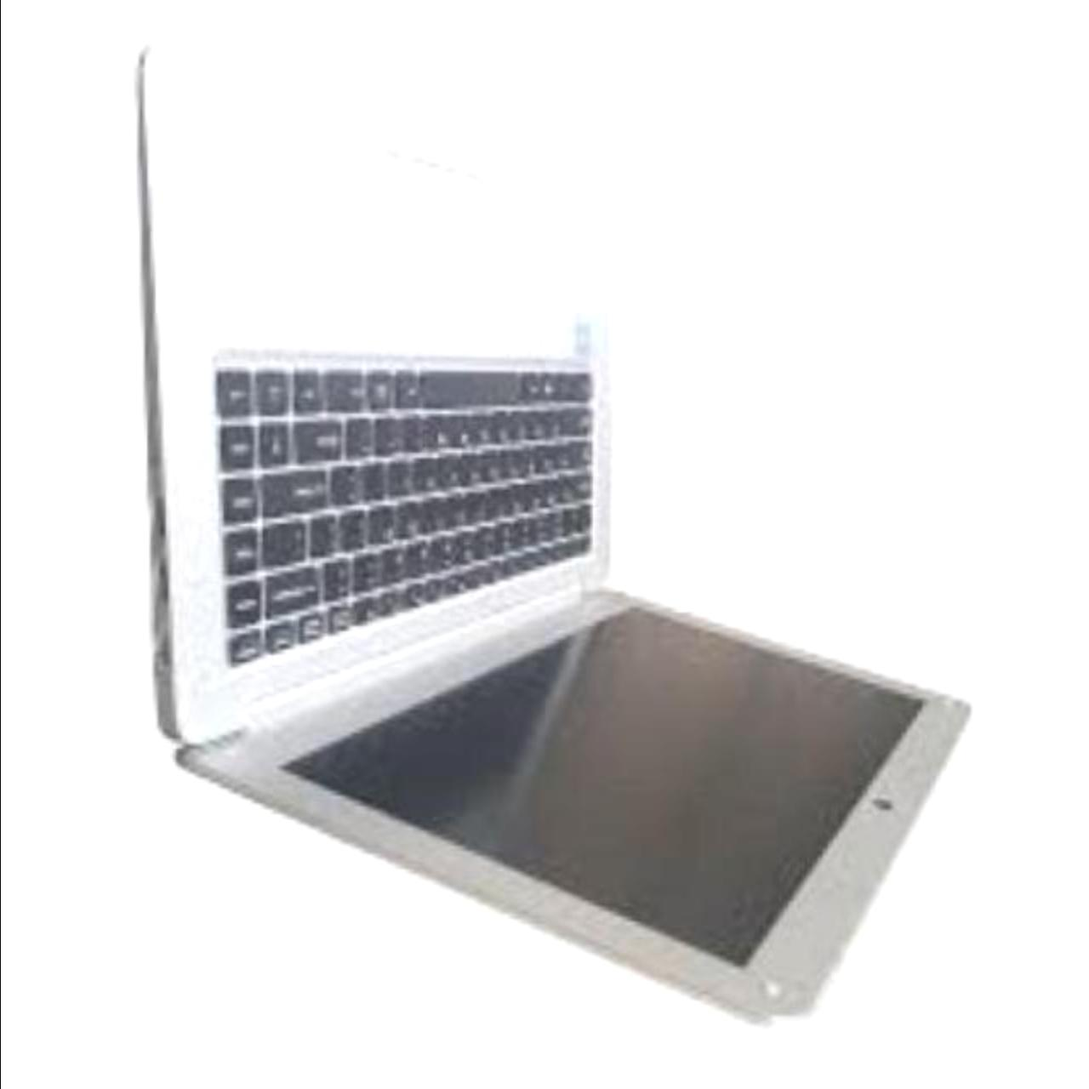laptop: (72, 31, 996, 1030)
